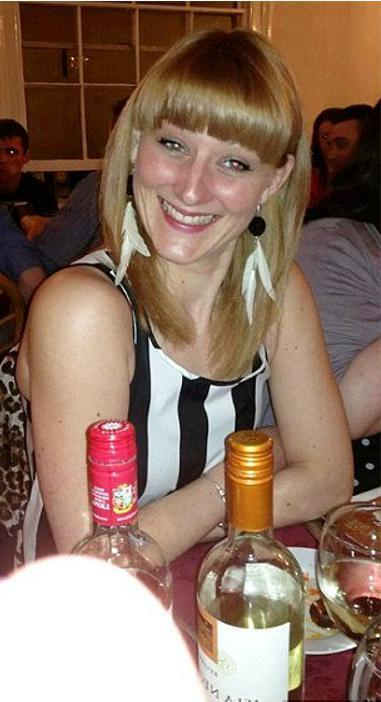Drunk: (135, 110, 260, 255)
